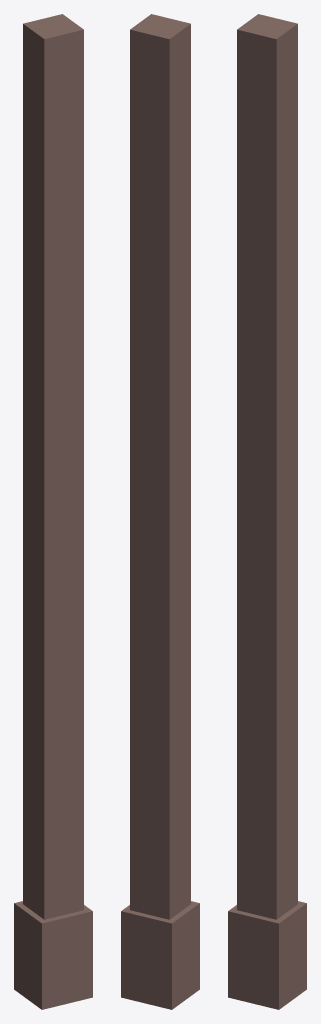
Rendered from COLUM.fbx.
The picture shows the model from 3 angles, left to right: view 1: azimuth 30°, elevation 25°; view 2: azimuth 150°, elevation 25°; view 3: azimuth 330°, elevation 25°; orthographic projection.
Parts seen in each view (by area): view 1: Plane.006; view 2: Plane.006; view 3: Plane.006.
Boxes of the visible parts, left/top/right/bottom form: Plane.006: left=14, top=14, right=92, bottom=1009; Plane.006: left=121, top=14, right=199, bottom=1009; Plane.006: left=228, top=14, right=306, bottom=1009.
Size of the model in its own units: 16.52 by 300 by 15.67.
